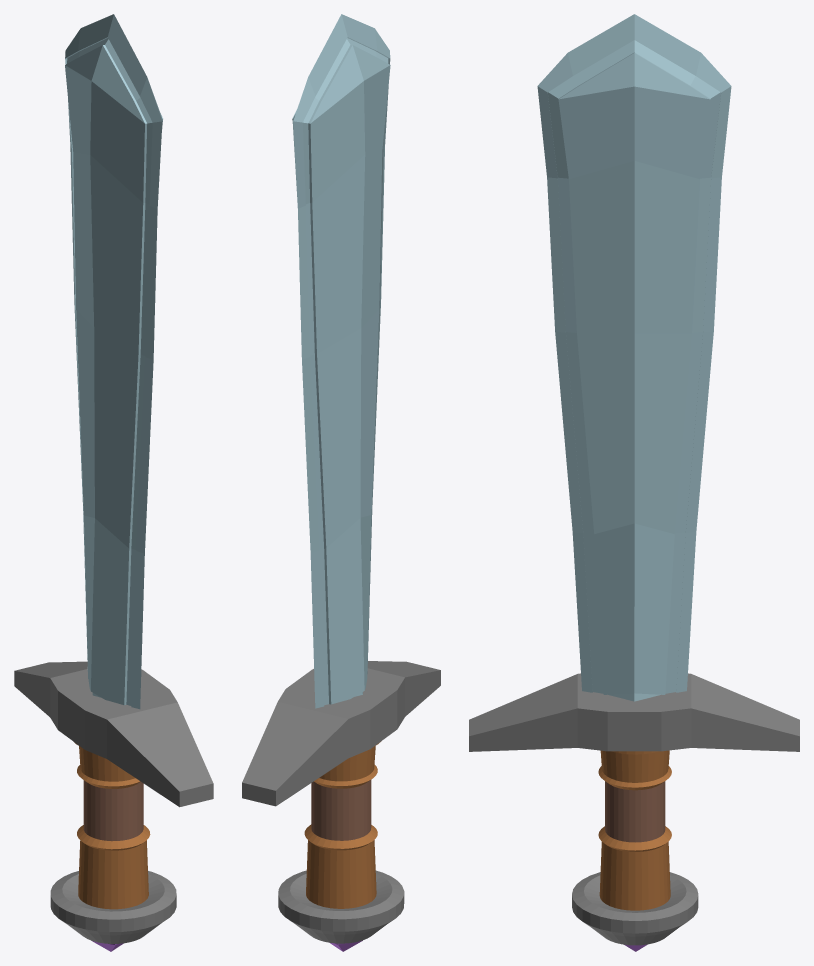
Rendered from sword.fbx.
The picture shows the model from 3 angles, left to right: view 1: azimuth 30°, elevation 25°; view 2: azimuth 150°, elevation 25°; view 3: azimuth 270°, elevation 25°; orthographic projection.
Parts seen in each view (by area): view 1: Cube, Cylinder, Cube.001; view 2: Cube, Cylinder, Cube.001; view 3: Cube, Cube.001, Cylinder.
Boxes of the visible parts, box(x1,y1,x2,y2) form: Cube: box(65, 14, 162, 709); Cylinder: box(50, 742, 176, 943); Cube.001: box(14, 661, 213, 807); Cube: box(292, 14, 390, 708); Cylinder: box(278, 741, 404, 943); Cube.001: box(242, 661, 440, 806); Cube: box(537, 14, 731, 701); Cube.001: box(469, 673, 799, 751); Cylinder: box(572, 750, 698, 945).
Size of the model in its own units: 168 by 1376 by 439.
